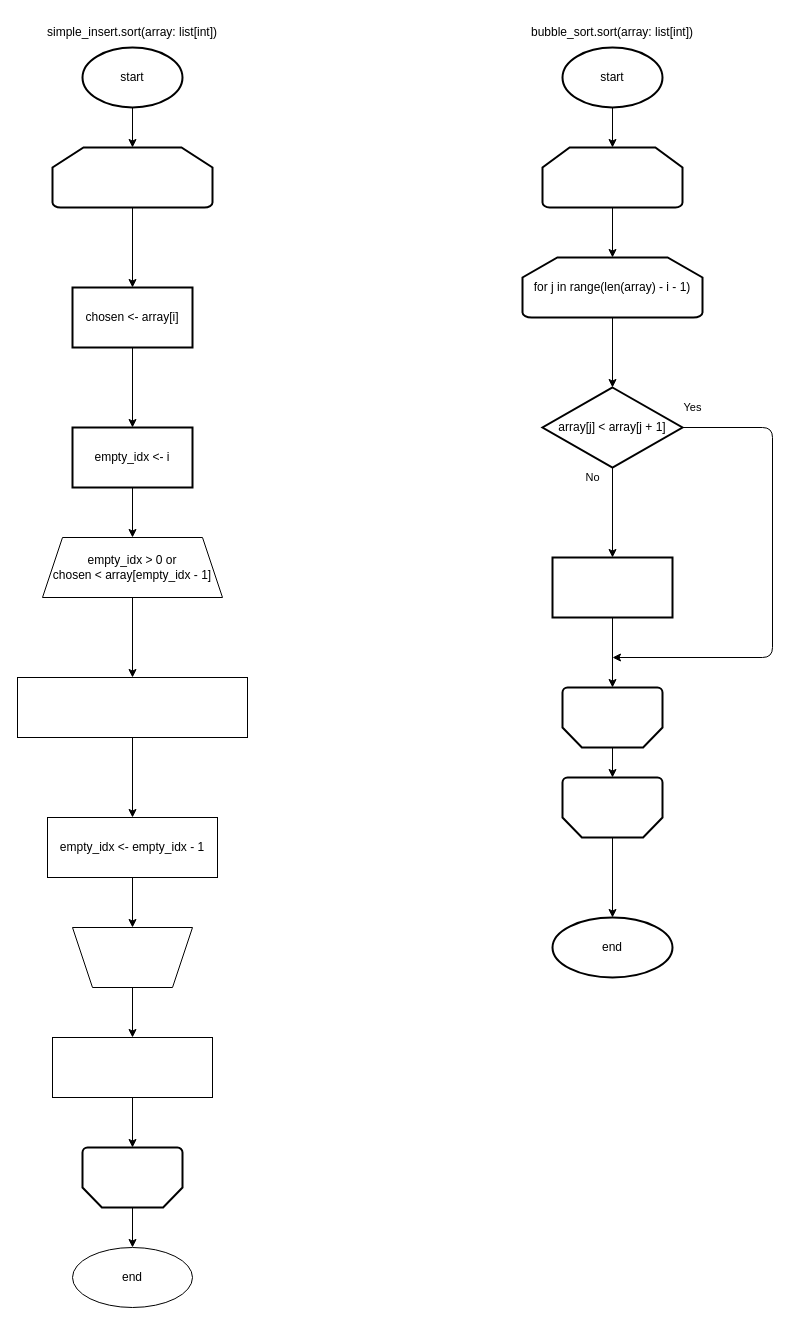
Image size: 798x1325. Some labels were removed from this diagram. Here are the shapes that lost their labels. From the top down, the centre of each, then its label:
At pixel 132 177: "for i in range(1, len(array))".
At pixel 612 177: "for i in range(len(array))".
At pixel 612 587: "array[j], array[j - 1] <- array[j - 1], array[j]".
At pixel 132 707: "array[empty_idx] <- array[empty_idx - 1]".
At pixel 132 1067: "array[empty_idx] = chosen".
